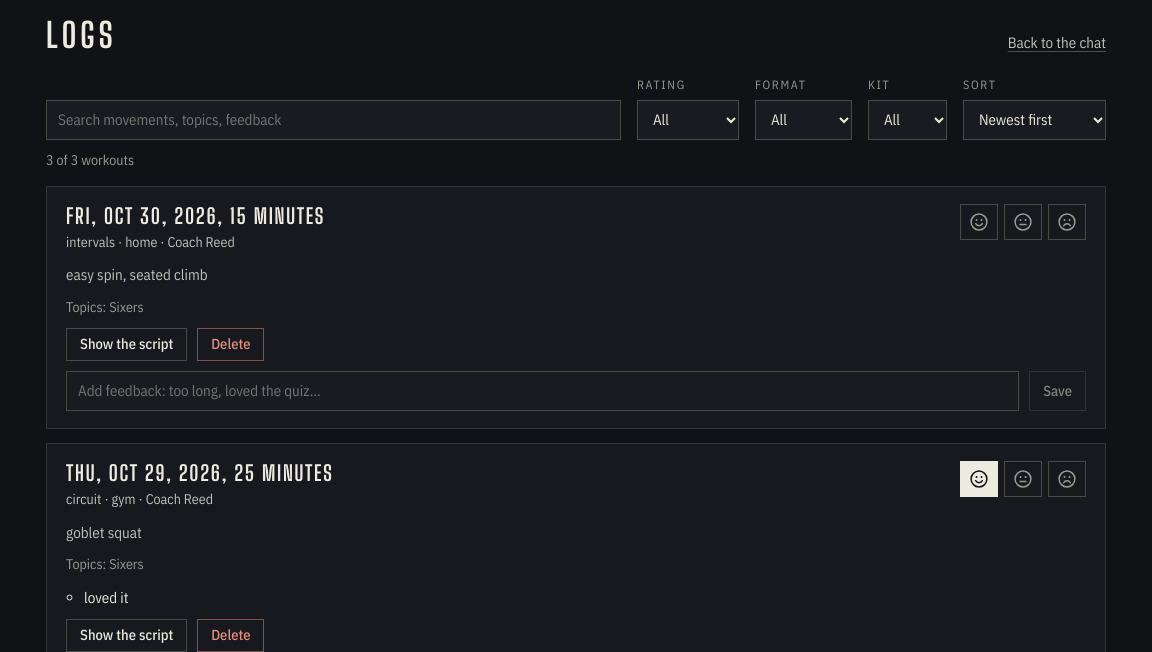
Scenario: the Logs page › puts a refused rating back and says why
The width and height of the screenshot is (1152, 652).
Click the button named "Neutral" in the row of "Fri, Oct 30, 2026, 15 minutes" at (1023, 222), box top-left (1004, 204), bottom-right (1042, 240)
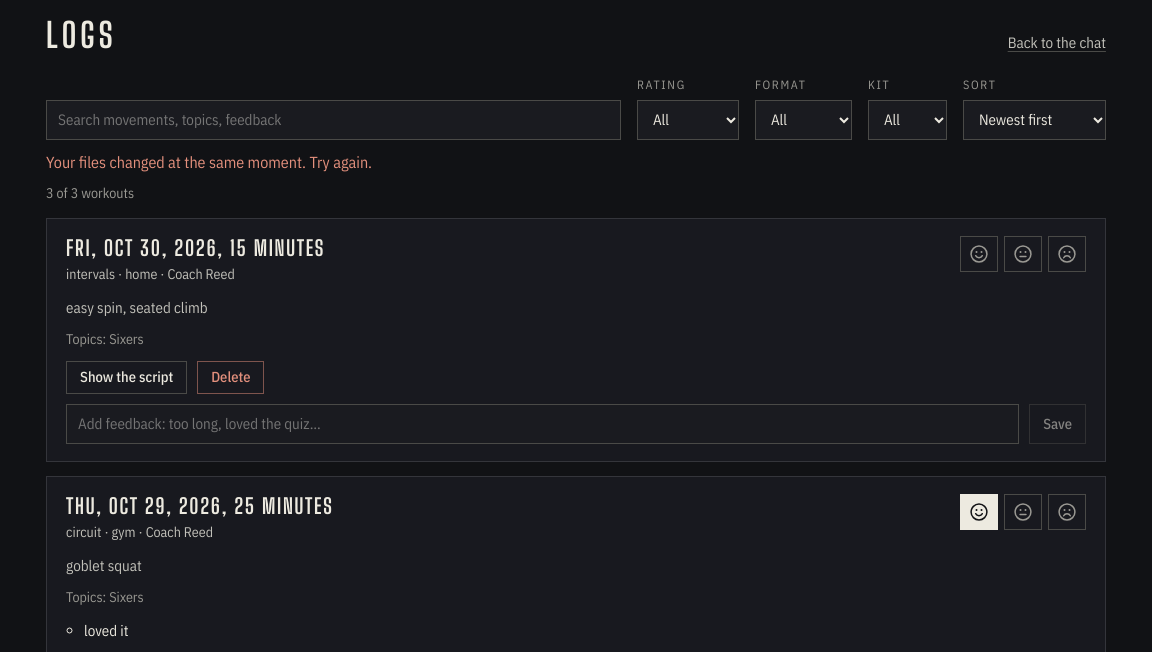
Expected: the message shows "Try again", top-left (46, 152), bottom-right (372, 172)
